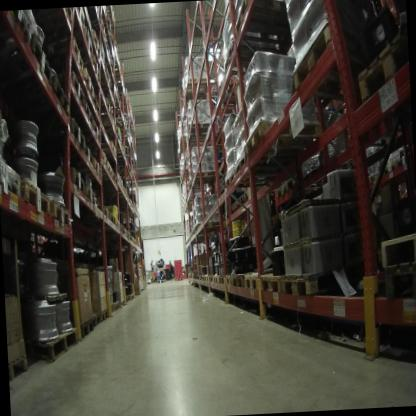pallet: (278, 21, 377, 116), (222, 0, 294, 99), (347, 8, 409, 104), (245, 114, 346, 168), (281, 259, 359, 305), (180, 72, 248, 118), (370, 222, 416, 268), (29, 325, 80, 366), (219, 41, 273, 79), (21, 168, 52, 223), (29, 31, 60, 81), (51, 72, 79, 127), (379, 266, 416, 305), (0, 13, 39, 48), (223, 170, 278, 194), (0, 149, 24, 200), (274, 183, 323, 207), (282, 169, 329, 193), (57, 34, 84, 74), (47, 192, 72, 231), (61, 162, 88, 197), (8, 348, 34, 383), (234, 155, 266, 179), (69, 117, 88, 155), (259, 270, 285, 296), (243, 265, 264, 295), (73, 72, 88, 114), (72, 316, 95, 341), (77, 27, 95, 58), (186, 175, 220, 191), (81, 63, 95, 99), (189, 168, 221, 183), (195, 219, 227, 234), (64, 7, 82, 32), (183, 133, 215, 147), (101, 100, 117, 126), (186, 122, 215, 135), (181, 89, 212, 101), (91, 57, 103, 85), (84, 25, 99, 47), (92, 156, 105, 181), (84, 178, 96, 205), (86, 98, 96, 129), (95, 44, 106, 71), (243, 185, 260, 202), (87, 311, 102, 329), (96, 306, 111, 323), (106, 137, 117, 160), (96, 149, 109, 168), (93, 117, 101, 147), (232, 270, 244, 289), (156, 276, 184, 284), (107, 169, 120, 186), (86, 144, 94, 168), (225, 268, 233, 291), (102, 304, 115, 318), (108, 299, 119, 314), (229, 197, 239, 213), (105, 162, 115, 178), (100, 198, 108, 217), (94, 98, 102, 117), (235, 194, 246, 207), (192, 226, 205, 236), (107, 69, 113, 89), (218, 271, 226, 285), (212, 274, 220, 288), (119, 178, 125, 196), (116, 132, 123, 147), (110, 209, 116, 225), (115, 215, 121, 230), (120, 219, 126, 233), (204, 271, 209, 285), (119, 299, 126, 307), (123, 226, 128, 237), (124, 187, 129, 198), (121, 145, 125, 157), (123, 295, 129, 303), (129, 292, 135, 300), (209, 274, 214, 283), (128, 234, 131, 243)
